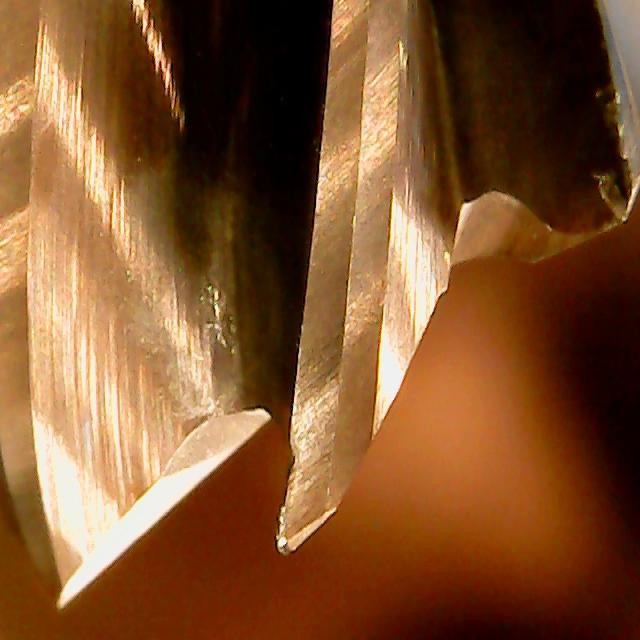Tool-wear-class-1: (269, 280, 392, 556)
